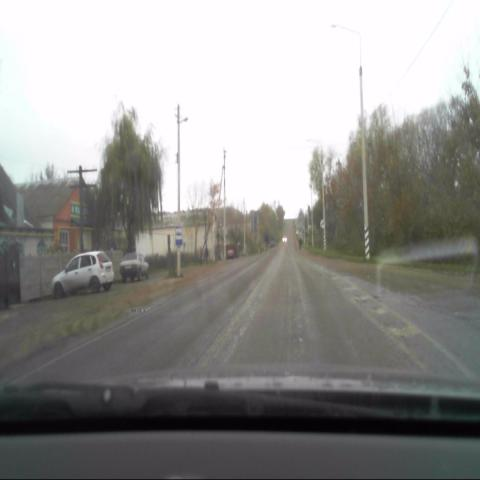3_21: (319, 218, 326, 229)
5_16: (175, 224, 183, 246)
